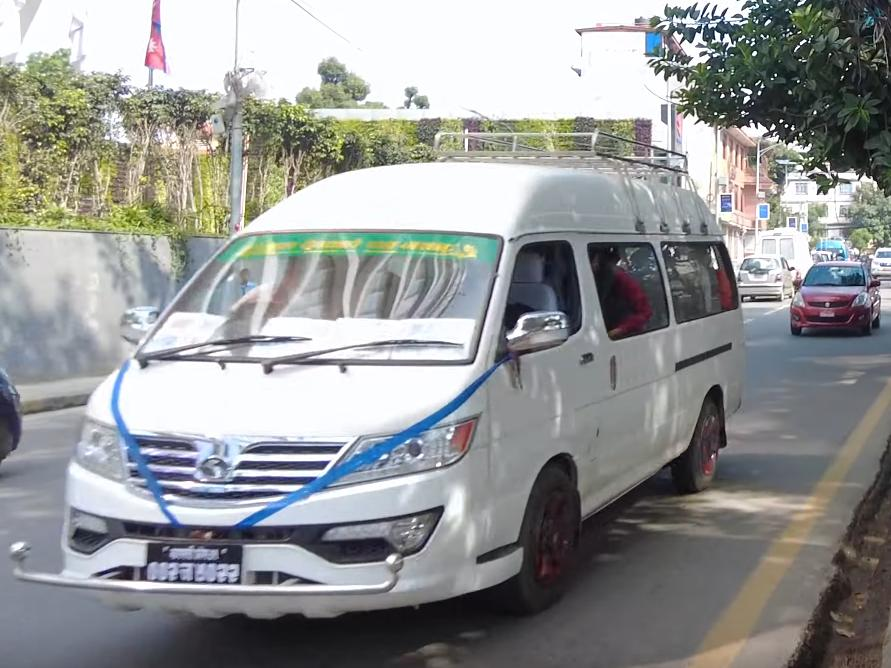car: (785, 258, 884, 337)
micro_bus: (38, 129, 749, 639)
